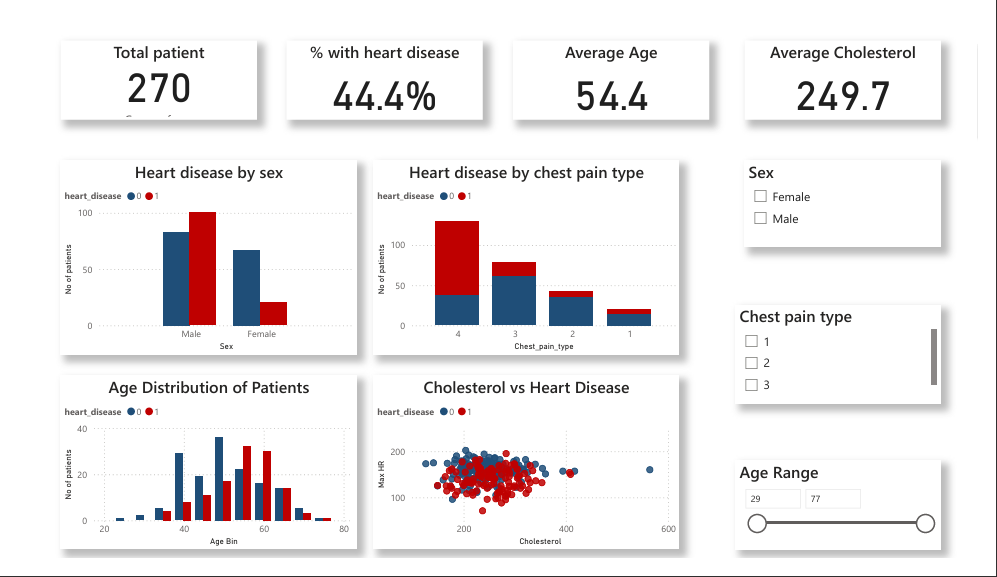

What the dashboard file says about the page in this screenshot:
{"tool":"powerbi","page":{"name":"Heart disease Overview","canvas":[1280,720],"ordinal":0},"visuals":[{"type":"card","title":"Total patient","fields":{"Values":["CountNonNull(Heart_Disease_Prediction_Cleaned.age)"]},"box":[57.1,30.2,262,105.8],"z":0},{"type":"card","title":"% with heart disease","fields":{"Values":["Heart_Disease_Prediction_Cleaned.% Heart Disease"]},"box":[357.8,30.2,262,105.8],"z":1000},{"type":"card","title":"Average Age","fields":{"Values":["Avg(Heart_Disease_Prediction_Cleaned.age)"]},"box":[660.2,30.2,262,105.8],"z":2000},{"type":"card","title":"Average Cholesterol","fields":{"Values":["Avg(Heart_Disease_Prediction_Cleaned.cholesterol)"]},"box":[969.2,30.2,262,105.8],"z":3000},{"type":"clusteredColumnChart","title":"Heart disease by sex","fields":{"Series":["Heart_Disease_Prediction_Cleaned.heart_disease"],"Category":["Heart_Disease_Prediction_Cleaned.sex"],"Y":["CountNonNull(Heart_Disease_Prediction_Cleaned.age)"]},"box":[57.1,189.8,394.8,258.7],"z":4000},{"type":"columnChart","title":"Heart disease by chest pain type","fields":{"Category":["Heart_Disease_Prediction_Cleaned.chest_pain_type"],"Series":["Heart_Disease_Prediction_Cleaned.heart_disease"],"Y":["CountNonNull(Heart_Disease_Prediction_Cleaned.age)"]},"box":[473.7,189.8,408.2,258.7],"z":5000},{"type":"clusteredColumnChart","title":"Age Distribution of Patients","fields":{"Category":["Heart_Disease_Prediction_Cleaned.Age Bin"],"Y":["CountNonNull(Heart_Disease_Prediction_Cleaned.age)"],"Series":["Heart_Disease_Prediction_Cleaned.heart_disease"]},"box":[57.1,477.1,394.8,231.8],"z":6000},{"type":"scatterChart","title":"Cholesterol vs Heart Disease","fields":{"X":["Heart_Disease_Prediction_Cleaned.cholesterol"],"Series":["Heart_Disease_Prediction_Cleaned.heart_disease"],"Y":["Heart_Disease_Prediction_Cleaned.max_hr"]},"box":[473.7,477.1,408.2,231.8],"z":7000},{"type":"slicer","title":"Sex","fields":{"Values":["Heart_Disease_Prediction_Cleaned.sex"]},"box":[969.2,189.8,262,115.9],"z":8000},{"type":"slicer","title":"Chest pain type","fields":{"Values":["Heart_Disease_Prediction_Cleaned.chest_pain_type"]},"box":[957.5,383,273.8,131],"z":9000},{"type":"slicer","title":"Age Range","fields":{"Values":["Heart_Disease_Prediction_Cleaned.age"]},"box":[957.5,589.6,273.8,119.3],"z":10000}]}

Visuals, with their boxes in screenshot pixels (x1, y1, x2, y2), scaled from the page's 1280x720 canvas onto the 997x577 screenshot:
"Total patient" card: {"left": 44, "top": 24, "right": 249, "bottom": 109}
"% with heart disease" card: {"left": 279, "top": 24, "right": 483, "bottom": 109}
"Average Age" card: {"left": 514, "top": 24, "right": 718, "bottom": 109}
"Average Cholesterol" card: {"left": 755, "top": 24, "right": 959, "bottom": 109}
"Heart disease by sex" clusteredColumnChart: {"left": 44, "top": 152, "right": 352, "bottom": 359}
"Heart disease by chest pain type" columnChart: {"left": 369, "top": 152, "right": 687, "bottom": 359}
"Age Distribution of Patients" clusteredColumnChart: {"left": 44, "top": 382, "right": 352, "bottom": 568}
"Cholesterol vs Heart Disease" scatterChart: {"left": 369, "top": 382, "right": 687, "bottom": 568}
"Sex" slicer: {"left": 755, "top": 152, "right": 959, "bottom": 245}
"Chest pain type" slicer: {"left": 746, "top": 307, "right": 959, "bottom": 412}
"Age Range" slicer: {"left": 746, "top": 472, "right": 959, "bottom": 568}
